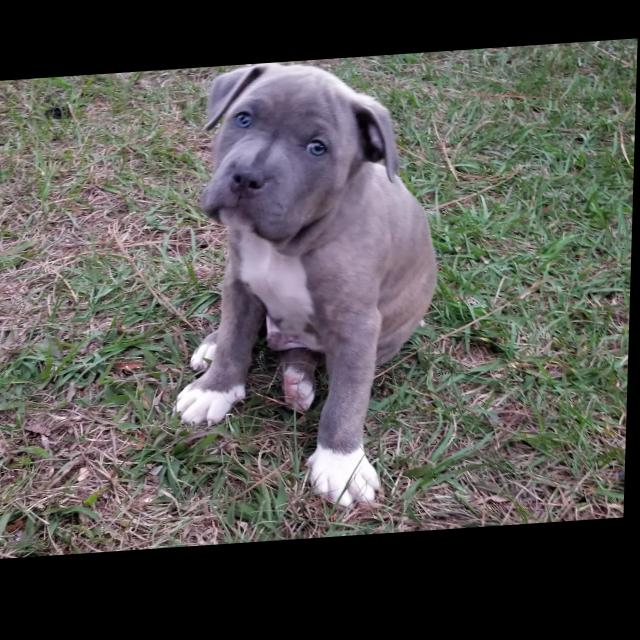am_pit_bull_terrier: (176, 58, 446, 523)
